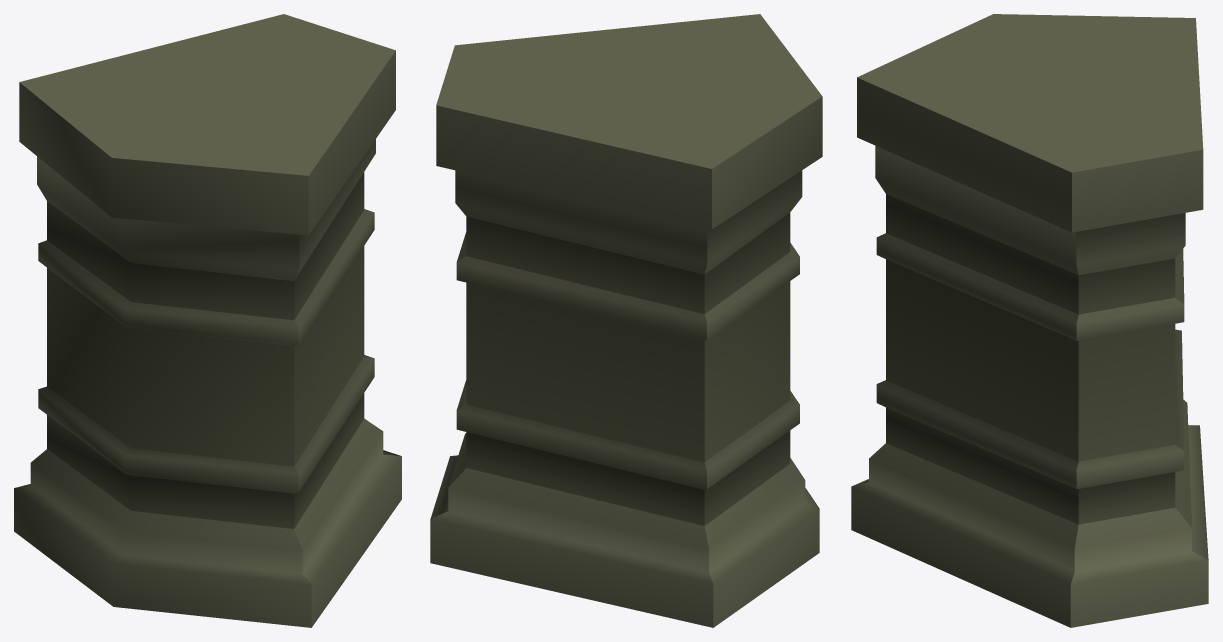
File: SM_Bld_Roof_Edge_Entrance_Corner_01.fbx
3 renders of one model, left to right at view 1: azimuth 30°, elevation 25°; view 2: azimuth 150°, elevation 25°; view 3: azimuth 270°, elevation 25°, orthographic.
Visible parts, largest first — view 1: SM_Bld_Roof_Edge_Entrance_Corner_01; view 2: SM_Bld_Roof_Edge_Entrance_Corner_01; view 3: SM_Bld_Roof_Edge_Entrance_Corner_01.
Part boxes in pixels (<box>): SM_Bld_Roof_Edge_Entrance_Corner_01: <box>14,14,401,627</box>; SM_Bld_Roof_Edge_Entrance_Corner_01: <box>430,14,822,627</box>; SM_Bld_Roof_Edge_Entrance_Corner_01: <box>851,14,1208,627</box>.
Bounding box in the file's own units: 122 × 160 × 114.
1 material, 1 textured.
